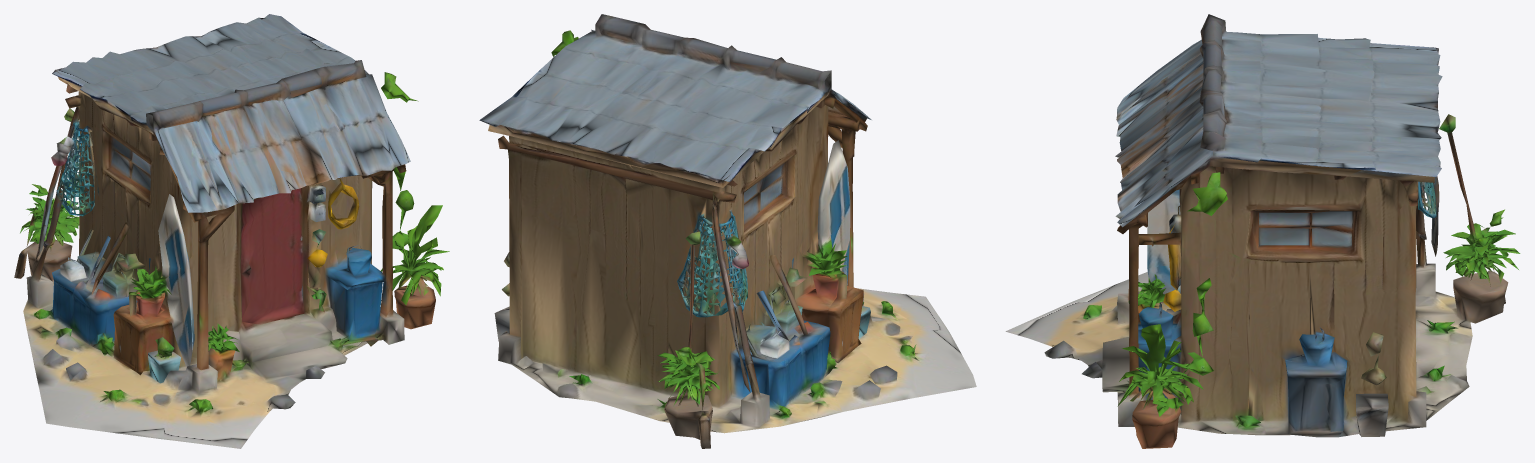
File: env_surfshack.glb
The picture shows the model from 3 angles, left to right: view 1: azimuth 30°, elevation 25°; view 2: azimuth 150°, elevation 25°; view 3: azimuth 270°, elevation 25°; orthographic projection. The views are drawn at different scales.
Parts seen in each view (by area): view 1: tripo_node_a9db99c1-d09a-4195-a005-409161b7bb1a; view 2: tripo_node_a9db99c1-d09a-4195-a005-409161b7bb1a; view 3: tripo_node_a9db99c1-d09a-4195-a005-409161b7bb1a.
Part boxes in pixels (x1=…): tripo_node_a9db99c1-d09a-4195-a005-409161b7bb1a: x1=14, y1=14, x2=449, y2=448; tripo_node_a9db99c1-d09a-4195-a005-409161b7bb1a: x1=479, y1=14, x2=976, y2=448; tripo_node_a9db99c1-d09a-4195-a005-409161b7bb1a: x1=1005, y1=14, x2=1520, y2=448.
Bounding box in the file's own units: 0.9804 × 0.6534 × 0.9583.
1 material, 1 textured.
